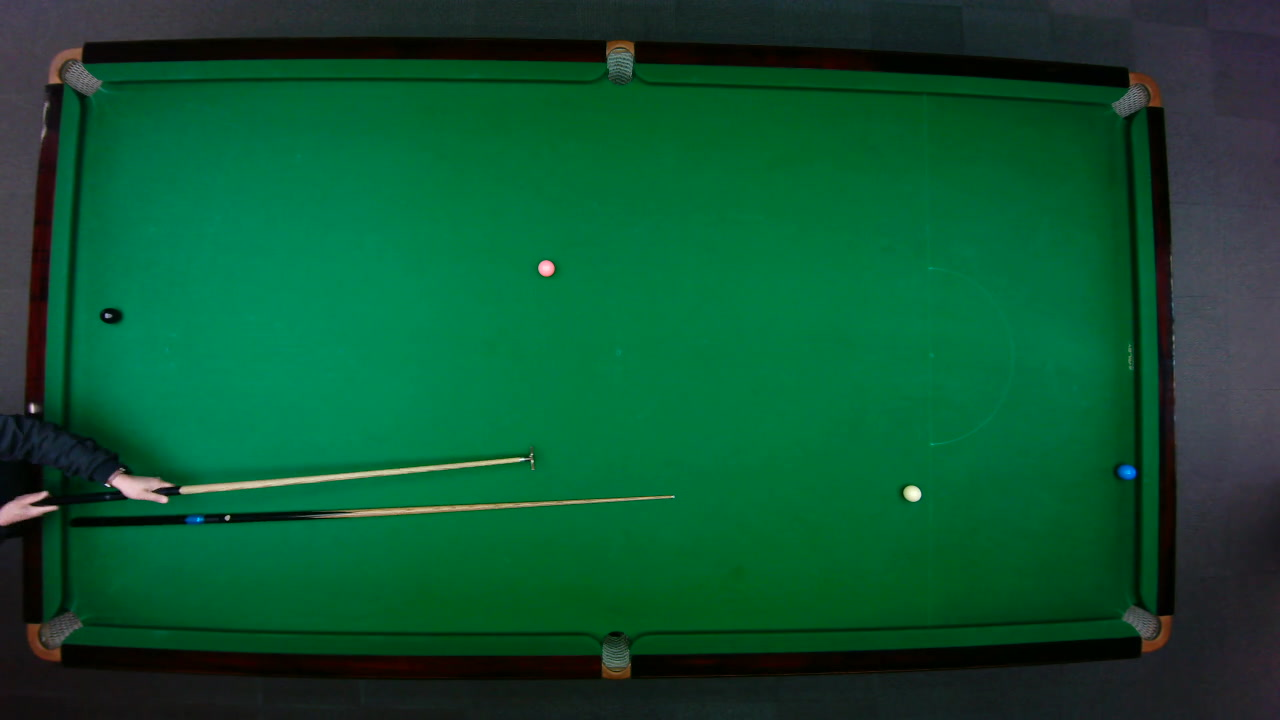bag: (25, 609, 84, 662), (46, 46, 102, 96), (1120, 604, 1172, 652), (1108, 71, 1161, 118), (601, 629, 629, 679), (605, 38, 633, 85)
black: (98, 306, 120, 324)
blue: (1115, 463, 1137, 480)
cue: (65, 495, 680, 533)
pink: (536, 258, 555, 277)
white: (901, 483, 922, 502)
zone: (926, 265, 1013, 445)
